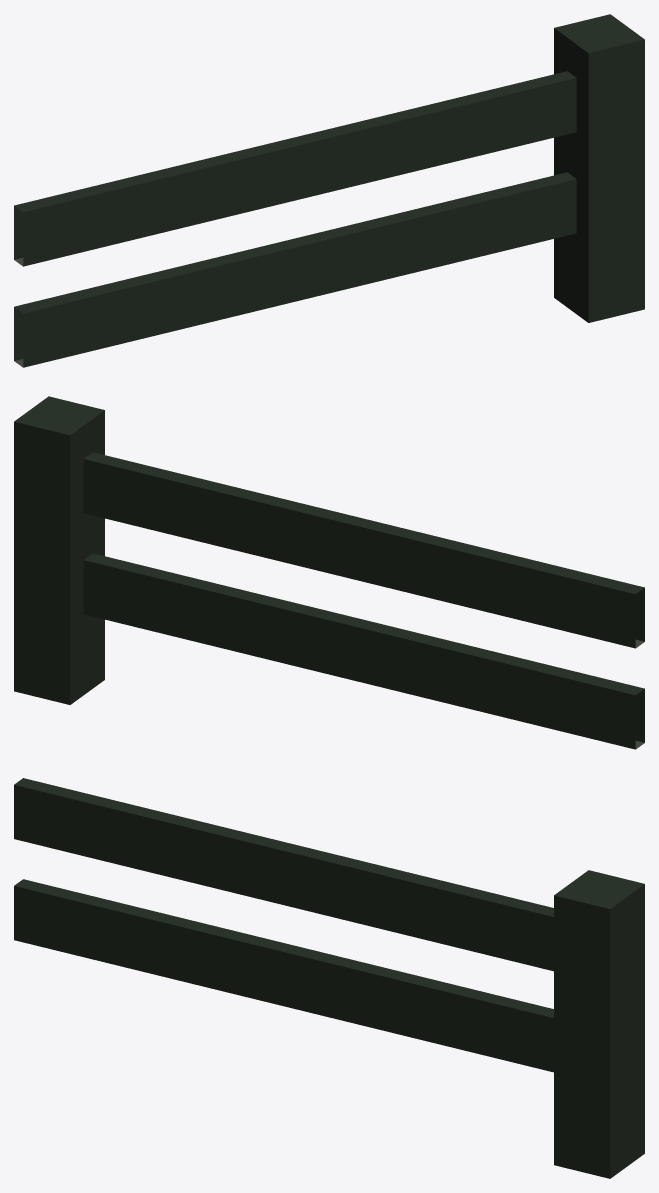
The model's file is SF_Prop_Fence_Wood_02.glb.
The picture shows the model from 3 angles, top to bottom: view 1: azimuth 30°, elevation 25°; view 2: azimuth 150°, elevation 25°; view 3: azimuth 330°, elevation 25°; orthographic projection.
Parts seen in each view (by area): view 1: SF_Prop_Fence_Wood_02; view 2: SF_Prop_Fence_Wood_02; view 3: SF_Prop_Fence_Wood_02.
Part boxes in pixels (x1,y1,x2,y2): SF_Prop_Fence_Wood_02: [14, 14, 644, 367]; SF_Prop_Fence_Wood_02: [14, 396, 644, 749]; SF_Prop_Fence_Wood_02: [14, 778, 644, 1178].
Size of the model in its own units: 0.0522 by 0.0221 by 0.00515.
1 material, 1 textured.
